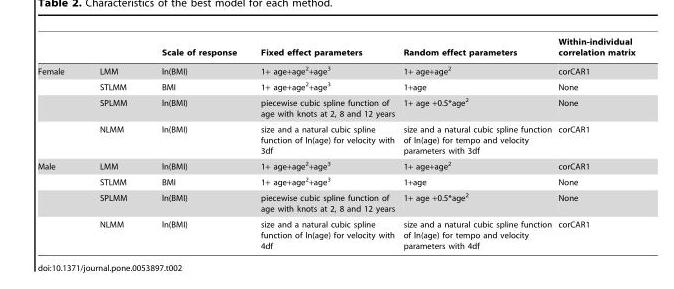table: (37, 37, 634, 250)
table column: (398, 37, 554, 250), (248, 37, 398, 250), (143, 37, 248, 250), (554, 37, 634, 250), (81, 37, 143, 250), (37, 37, 81, 250)
table column header: (37, 37, 634, 60)
table row: (37, 121, 634, 157), (37, 216, 634, 250), (37, 93, 634, 121), (37, 189, 634, 216), (37, 37, 634, 60), (37, 60, 634, 78), (37, 157, 634, 173), (37, 173, 634, 189), (37, 78, 634, 93)
table spanning cell: (37, 60, 81, 157), (37, 157, 81, 250)
